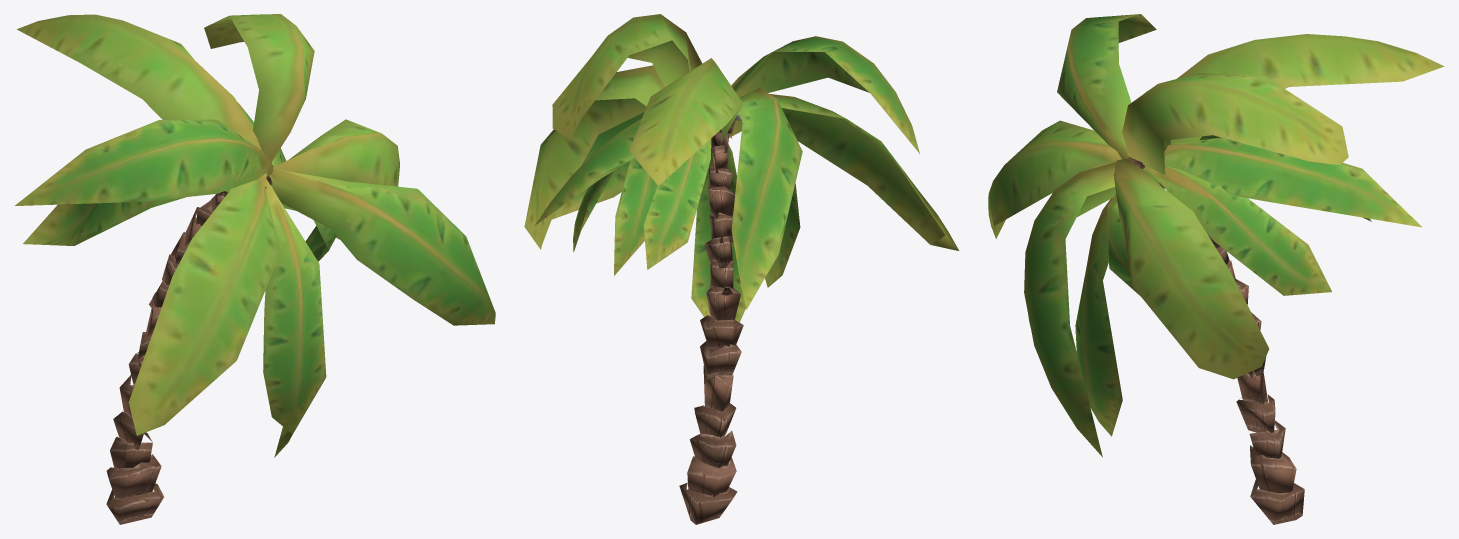
Rendered from Coconut_palm.glb.
3 renders of one model, left to right at view 1: azimuth 30°, elevation 25°; view 2: azimuth 150°, elevation 25°; view 3: azimuth 270°, elevation 25°, orthographic. The views are drawn at different scales.
Visible parts, largest first — view 1: Obj3d66-9721664-3-364, Obj3d66-9721664-2-124; view 2: Obj3d66-9721664-3-364, Obj3d66-9721664-2-124; view 3: Obj3d66-9721664-3-364, Obj3d66-9721664-2-124.
Part boxes in pixels (x1,y1,x2,y2): Obj3d66-9721664-3-364: [15, 14, 495, 457]; Obj3d66-9721664-2-124: [106, 165, 273, 524]; Obj3d66-9721664-3-364: [524, 14, 958, 322]; Obj3d66-9721664-2-124: [679, 114, 743, 524]; Obj3d66-9721664-3-364: [988, 14, 1444, 457]; Obj3d66-9721664-2-124: [1113, 157, 1304, 524].
Size of the model in its own units: 0.6049 by 0.6313 by 0.5301.
Materials: 2 (2 with a texture image).
